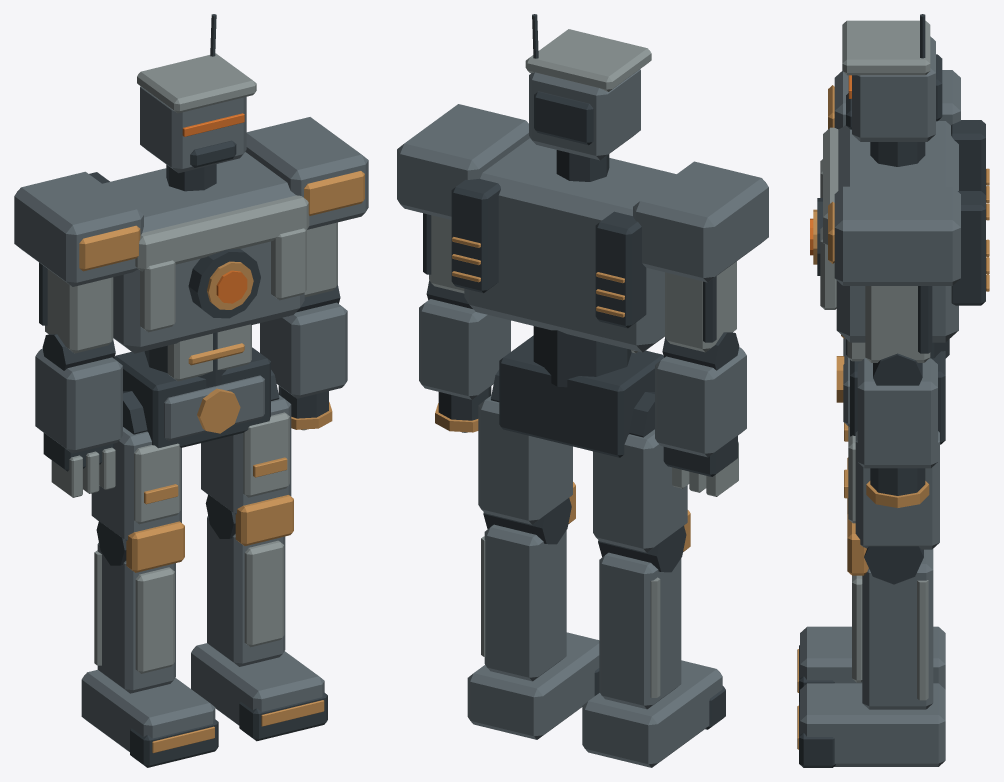
Rendered from siege-walker.glb.
3 views of the same model, side by side, from view 1: azimuth 30°, elevation 25°; view 2: azimuth 150°, elevation 25°; view 3: azimuth 270°, elevation 25° (orthographic). The views are drawn at different scales.
Parts seen in each view (by area): view 1: chest, upperarm_l, shin_l, shin_r, head, forearm_l, upperarm_r, pelvis, foot_l, foot_r, forearm_r, thigh_l (+4 smaller); view 2: chest, upperarm_l, head, shin_r, shin_l, forearm_l, pelvis, upperarm_r, forearm_r, thigh_l, foot_l, thigh_r (+2 smaller); view 3: upperarm_r, chest, shin_r, head, forearm_r, foot_r, thigh_r, foot_l, pelvis, upperarm_l, waist.
Boxes of the visible parts, x1,y1,x2,y2 form: chest: [89, 152, 309, 353]; upperarm_l: [14, 171, 143, 353]; shin_l: [94, 521, 184, 693]; shin_r: [205, 494, 293, 666]; head: [137, 14, 256, 191]; forearm_l: [35, 334, 122, 497]; upperarm_r: [245, 117, 368, 297]; pelvis: [114, 347, 270, 448]; foot_l: [81, 669, 218, 767]; foot_r: [191, 643, 327, 741]; forearm_r: [260, 285, 347, 430]; thigh_l: [91, 391, 181, 541]; chest: [451, 138, 676, 352]; upperarm_l: [633, 161, 768, 352]; head: [525, 14, 651, 181]; shin_r: [481, 482, 575, 681]; shin_l: [598, 510, 690, 709]; forearm_l: [655, 332, 746, 496]; pelvis: [499, 335, 663, 457]; upperarm_r: [397, 104, 530, 293]; forearm_r: [419, 280, 510, 432]; thigh_l: [593, 392, 687, 552]; foot_l: [582, 660, 725, 767]; thigh_r: [478, 369, 572, 524]; upperarm_r: [828, 186, 960, 362]; chest: [813, 120, 989, 342]; shin_r: [847, 514, 933, 709]; head: [842, 14, 942, 166]; forearm_r: [857, 353, 937, 507]; foot_r: [797, 683, 945, 767]; thigh_r: [844, 427, 939, 549]; foot_l: [797, 626, 945, 701]; pelvis: [836, 338, 945, 444]; upperarm_l: [828, 70, 960, 129]; waist: [841, 335, 949, 361].
Size of the model in its own units: 9.7 by 20.9 by 5.02.
